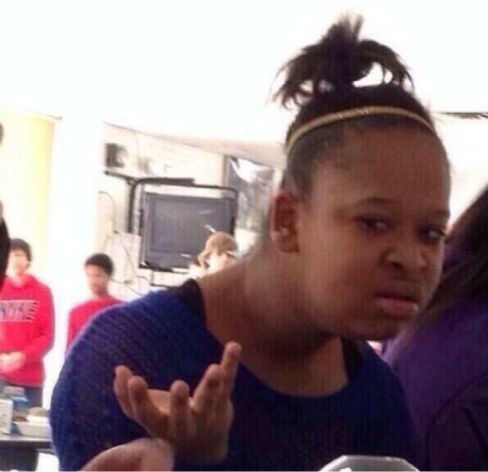confused: (303, 163, 450, 349)
